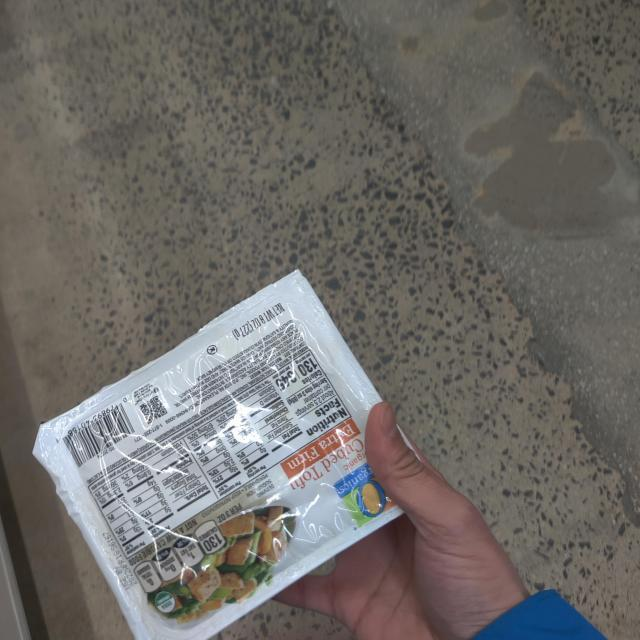Tofu: (20, 264, 441, 640)
